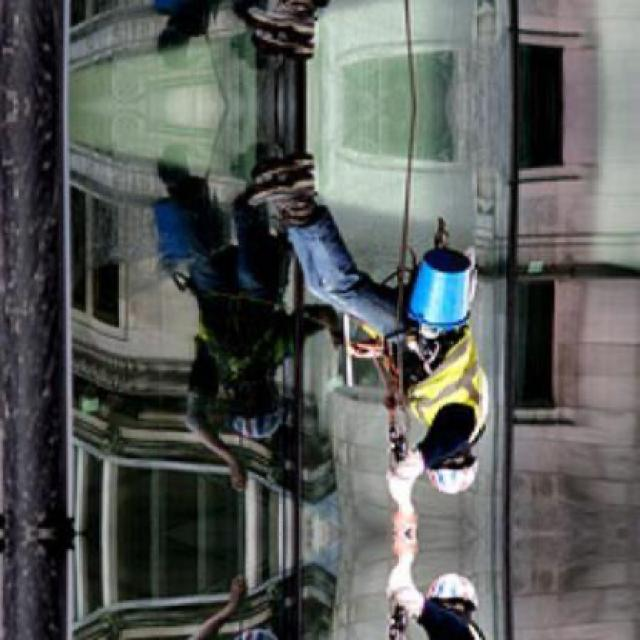con casco: (387, 408, 511, 514)
